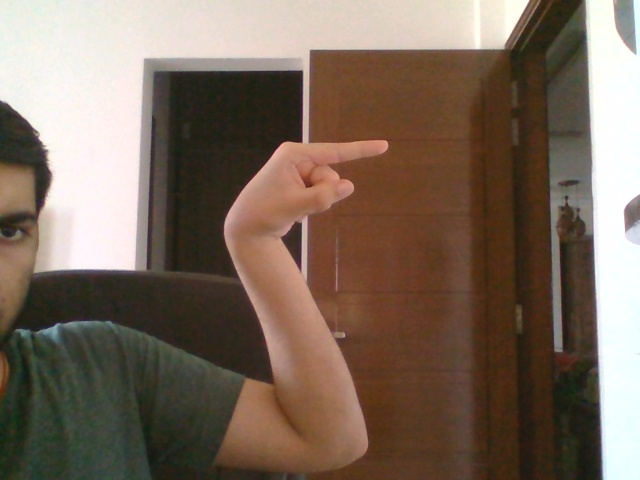LetterG: (223, 139, 389, 239)
